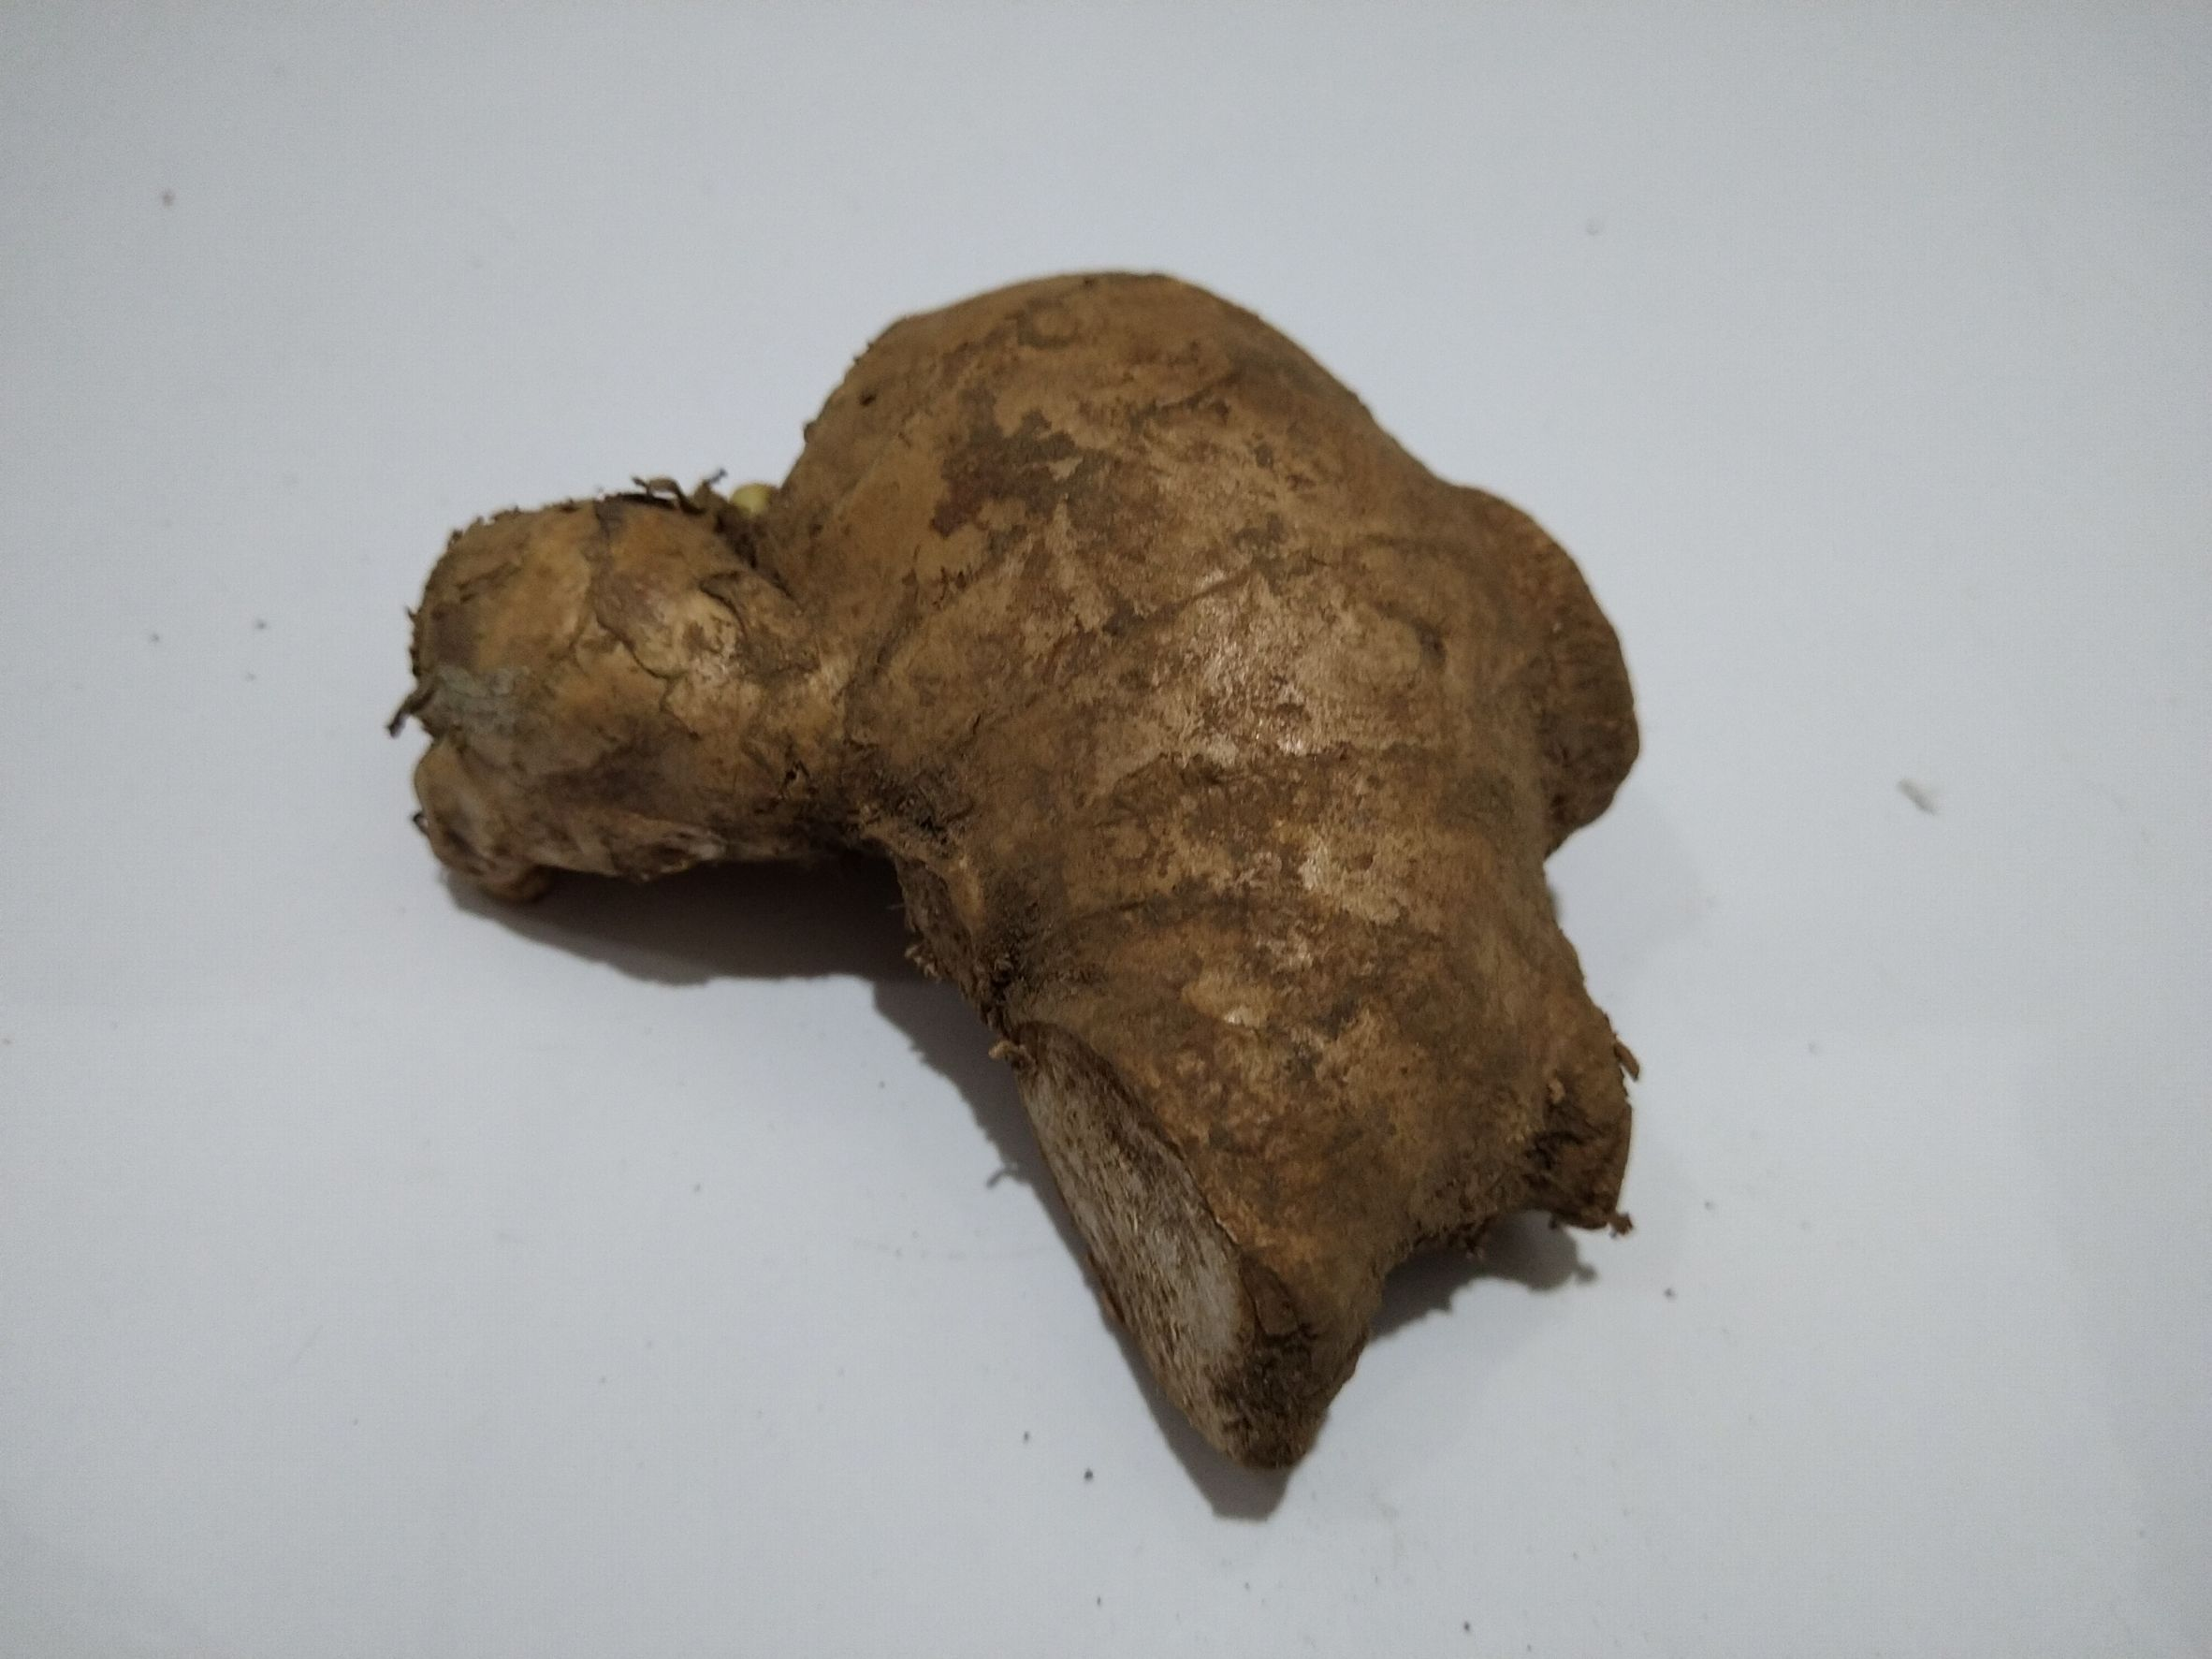Jahe: (387, 268, 1623, 1511)
